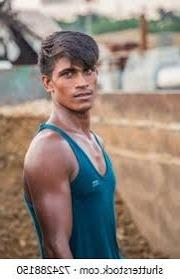Human: (24, 24, 131, 266)
